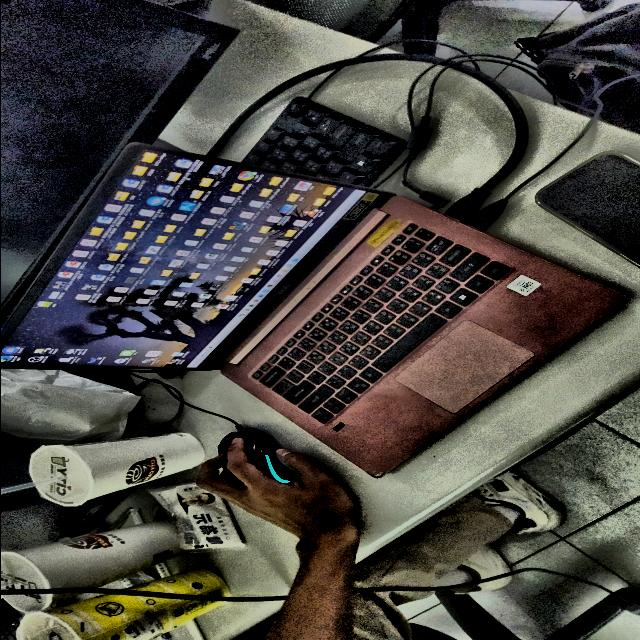Keyboard: (243, 96, 403, 186)
Laptop: (0, 143, 626, 477)
MOUSE: (217, 427, 298, 484)
PHONE: (534, 152, 640, 266)
Screen: (0, 0, 236, 298)
